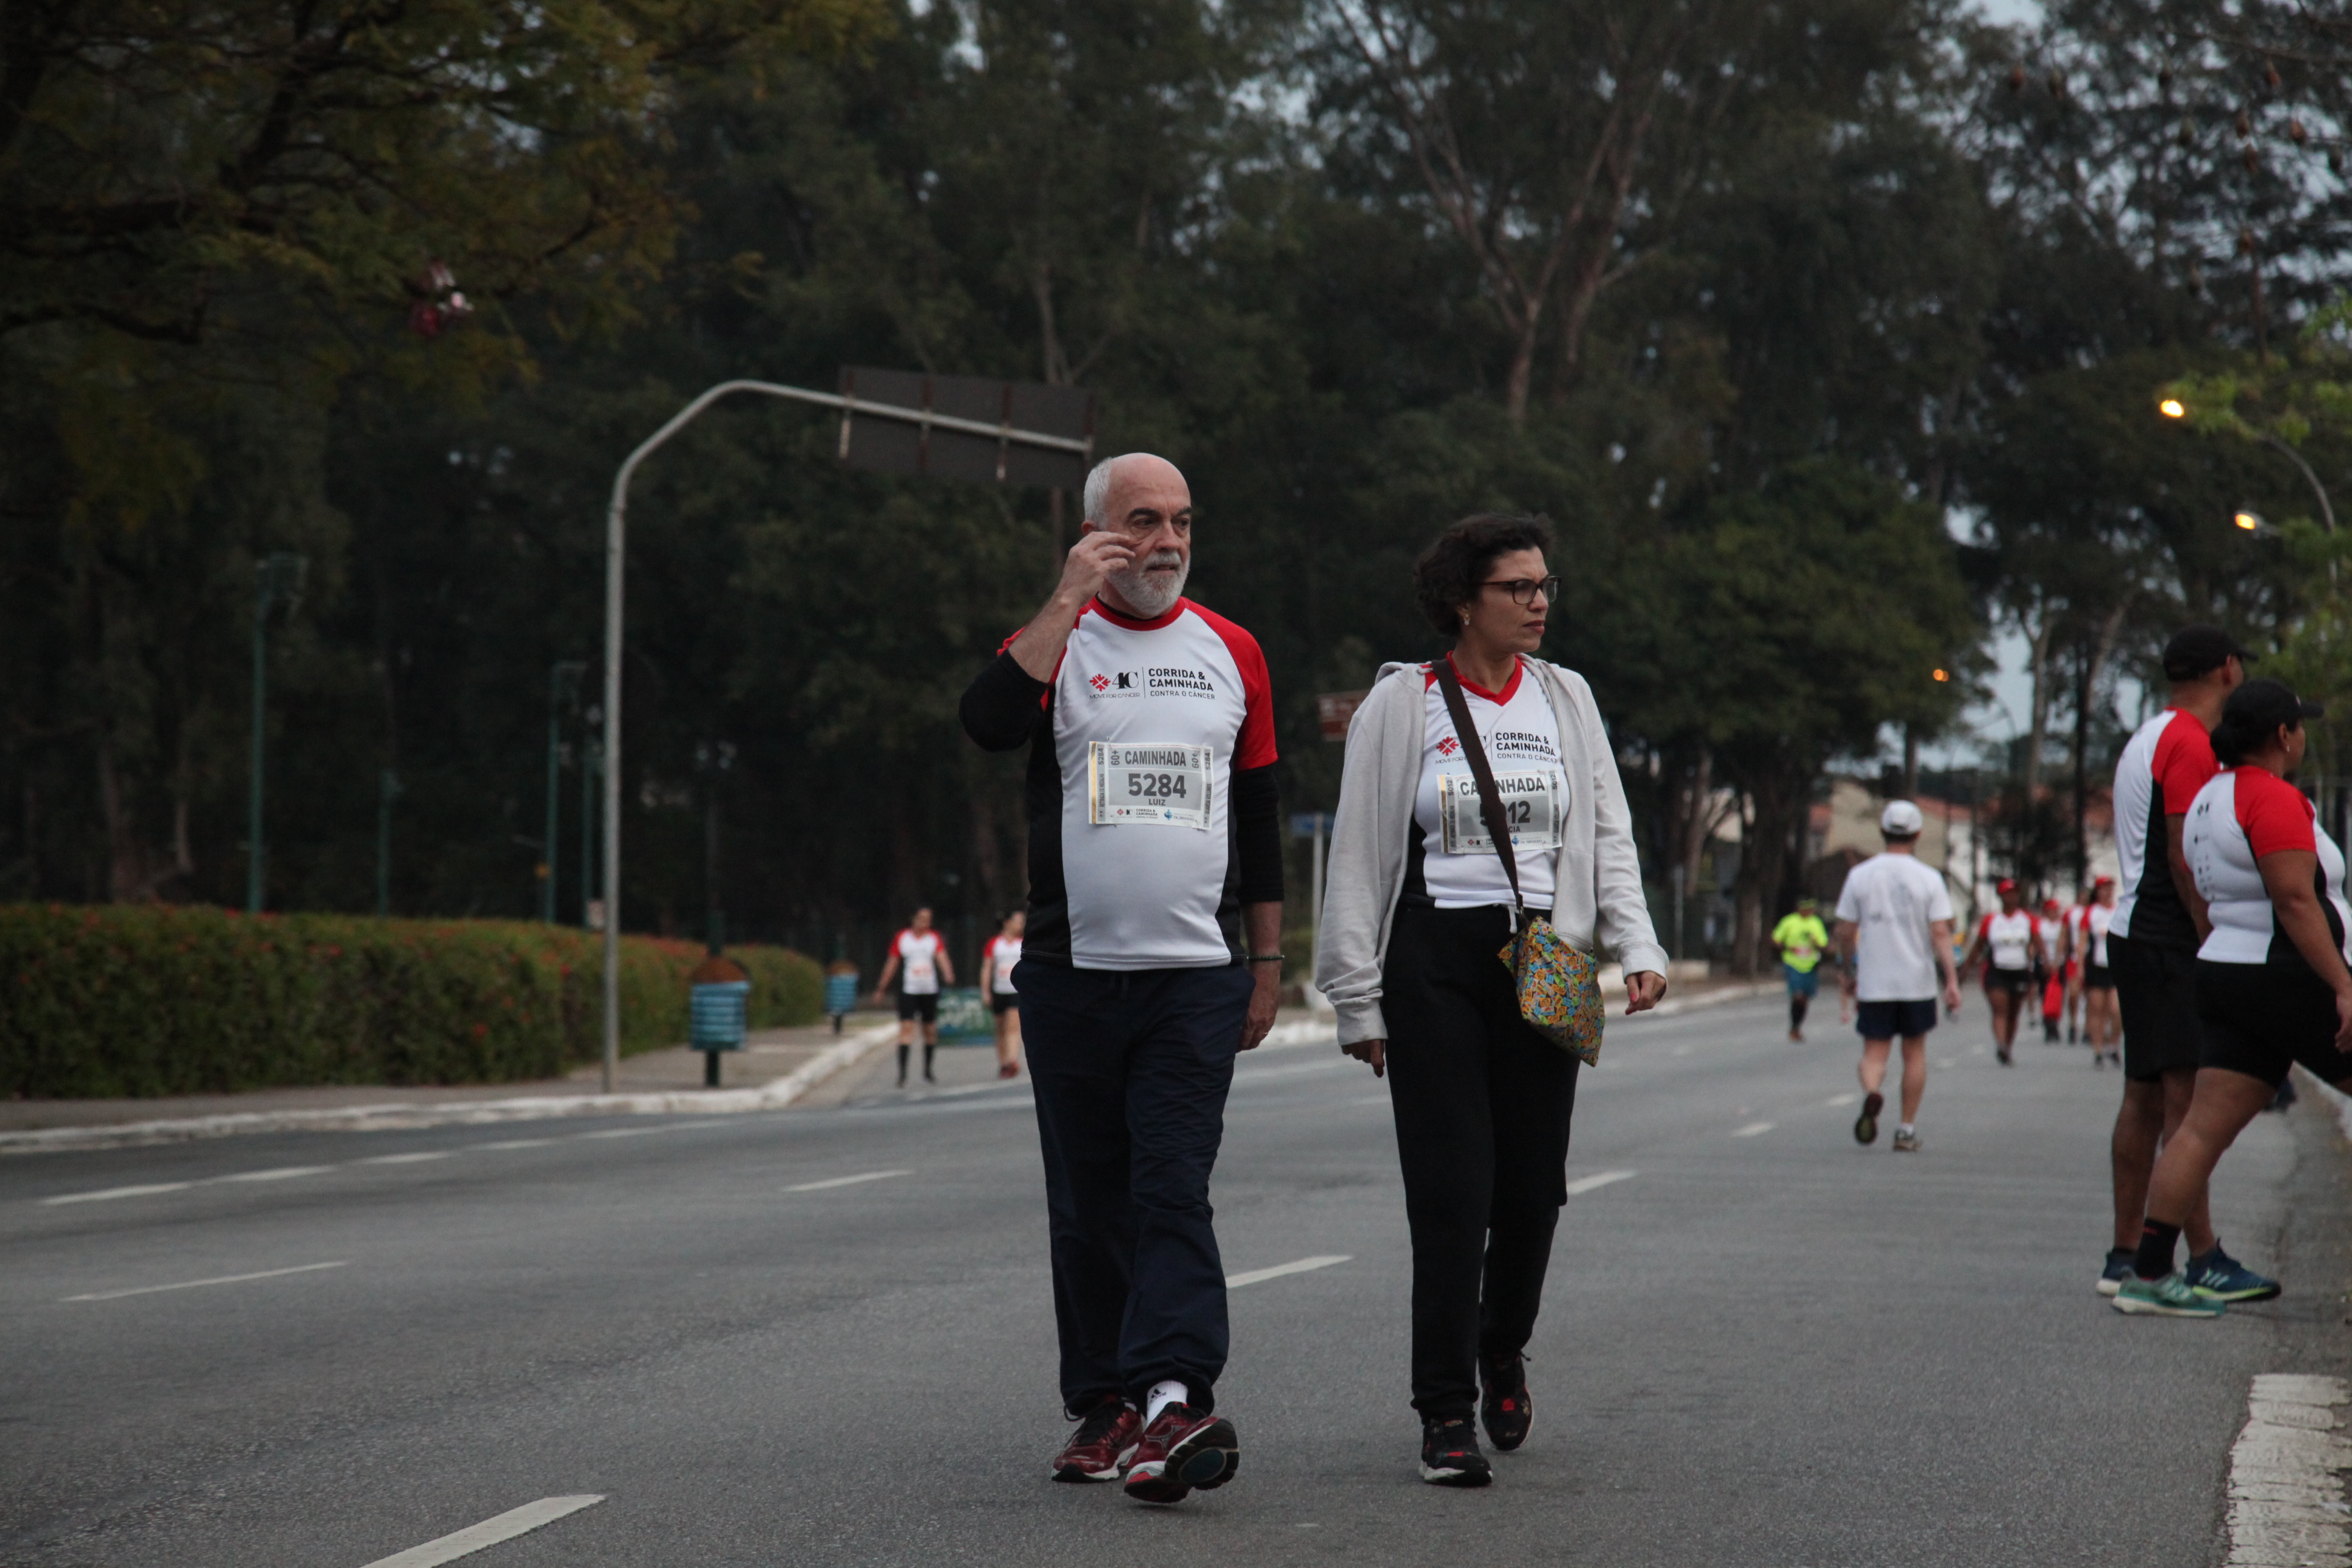bibtag: (1080, 733, 1220, 847), (1428, 768, 1577, 866)
